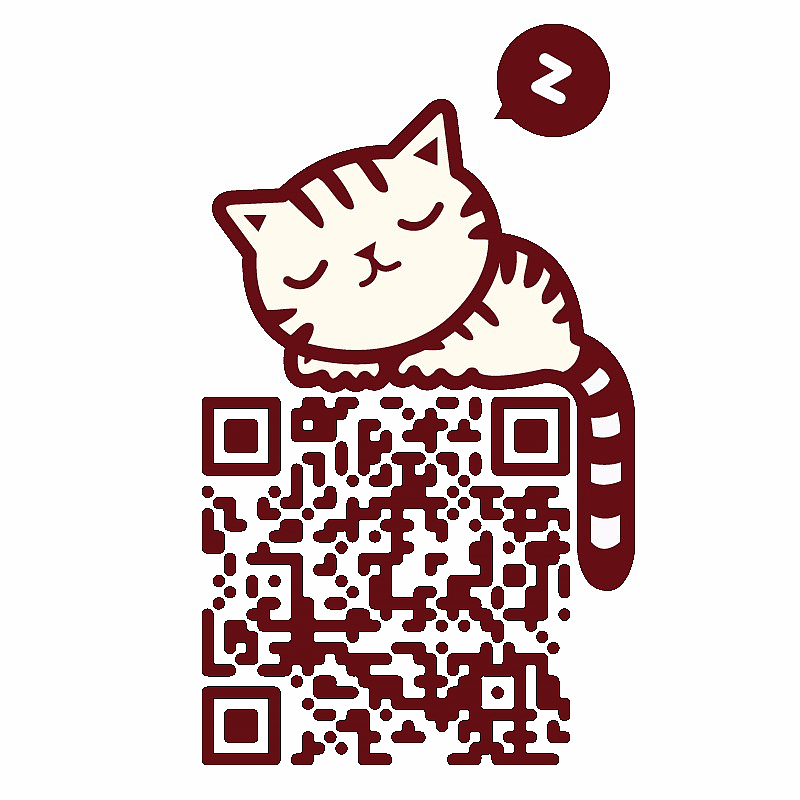QRCode: (190, 394, 575, 783)
